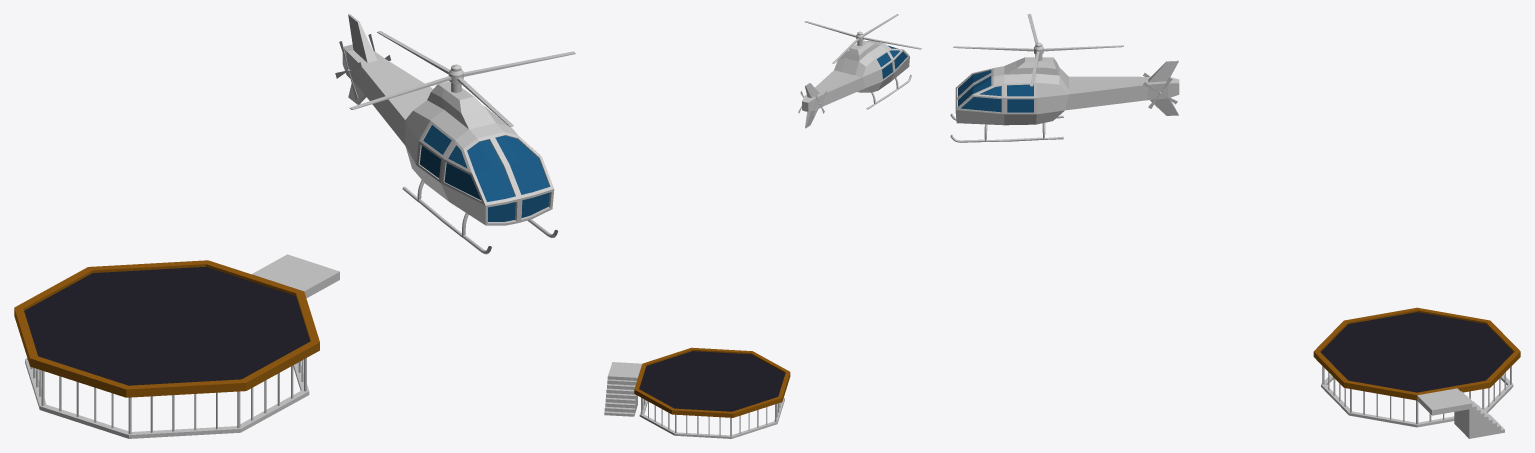
Rendered from copter_000039.obj.
3 renders of one model, left to right at view 1: azimuth 30°, elevation 25°; view 2: azimuth 150°, elevation 25°; view 3: azimuth 270°, elevation 25°, orthographic. The views are drawn at different scales.
Parts seen in each view (by area): view 1: Cylinder.001_Cylinder.012, Helicopter.007_Cylinder.008, Helicopter.001_Cylinder.001, Cylinder.004, Cylinder.003_Cylinder.005, Cylinder.002; view 2: Cylinder.001_Cylinder.012, Helicopter.007_Cylinder.008, Helicopter.001_Cylinder.001; view 3: Cylinder.001_Cylinder.012, Helicopter.007_Cylinder.008, Helicopter.001_Cylinder.001.
Part boxes in pixels (box(x1,y1,x2,y2)): Cylinder.001_Cylinder.012: box(14, 254, 339, 438); Helicopter.007_Cylinder.008: box(342, 14, 557, 254); Helicopter.001_Cylinder.001: box(349, 31, 575, 126); Cylinder.004: box(150, 365, 293, 432); Cylinder.003_Cylinder.005: box(30, 359, 303, 428); Cylinder.002: box(27, 358, 306, 434); Cylinder.001_Cylinder.012: box(604, 347, 790, 438); Helicopter.007_Cylinder.008: box(802, 40, 911, 128); Helicopter.001_Cylinder.001: box(804, 14, 921, 63); Cylinder.001_Cylinder.012: box(1313, 307, 1520, 438); Helicopter.007_Cylinder.008: box(950, 57, 1179, 142); Helicopter.001_Cylinder.001: box(953, 14, 1123, 86).
Size of the model in its own units: 7.94 by 12.39 by 18.64.
